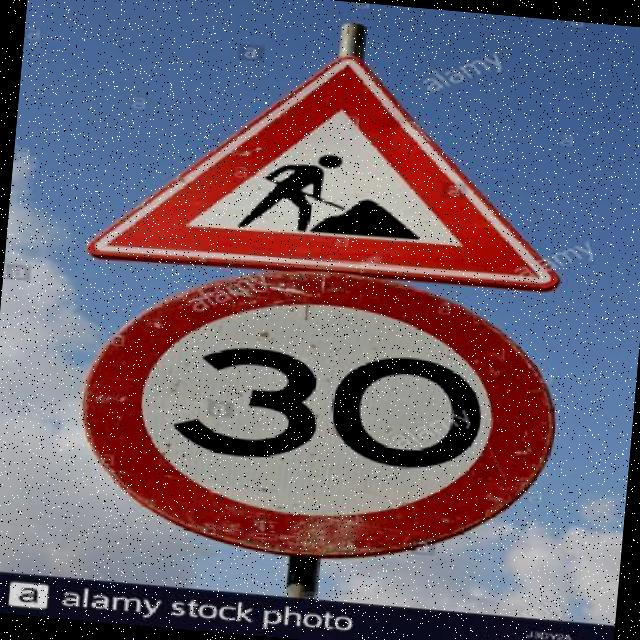Ograniczenie predkosci do 30: (67, 253, 565, 575)
